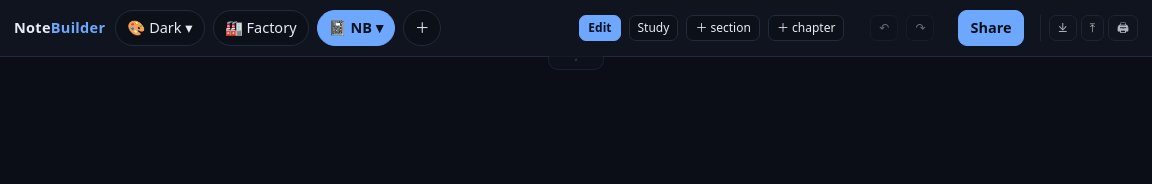
TopBar ＋ new-notebook menu › offers From AI… when the host provides onfromai
Click the button "＋" at (422, 28), box [403,10,442,46]
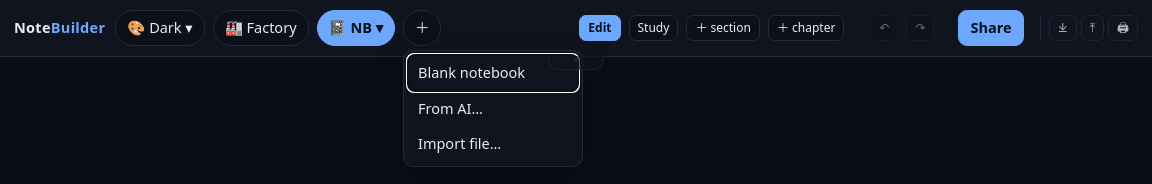
Click the menu item "From AI…" at (493, 108), box [408,90,578,126]
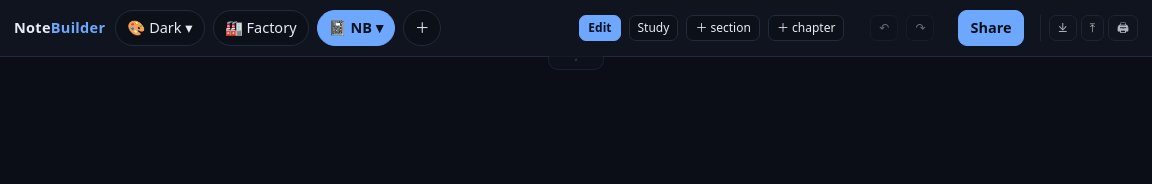
Expected: the menu with class "newmenu" is gone
